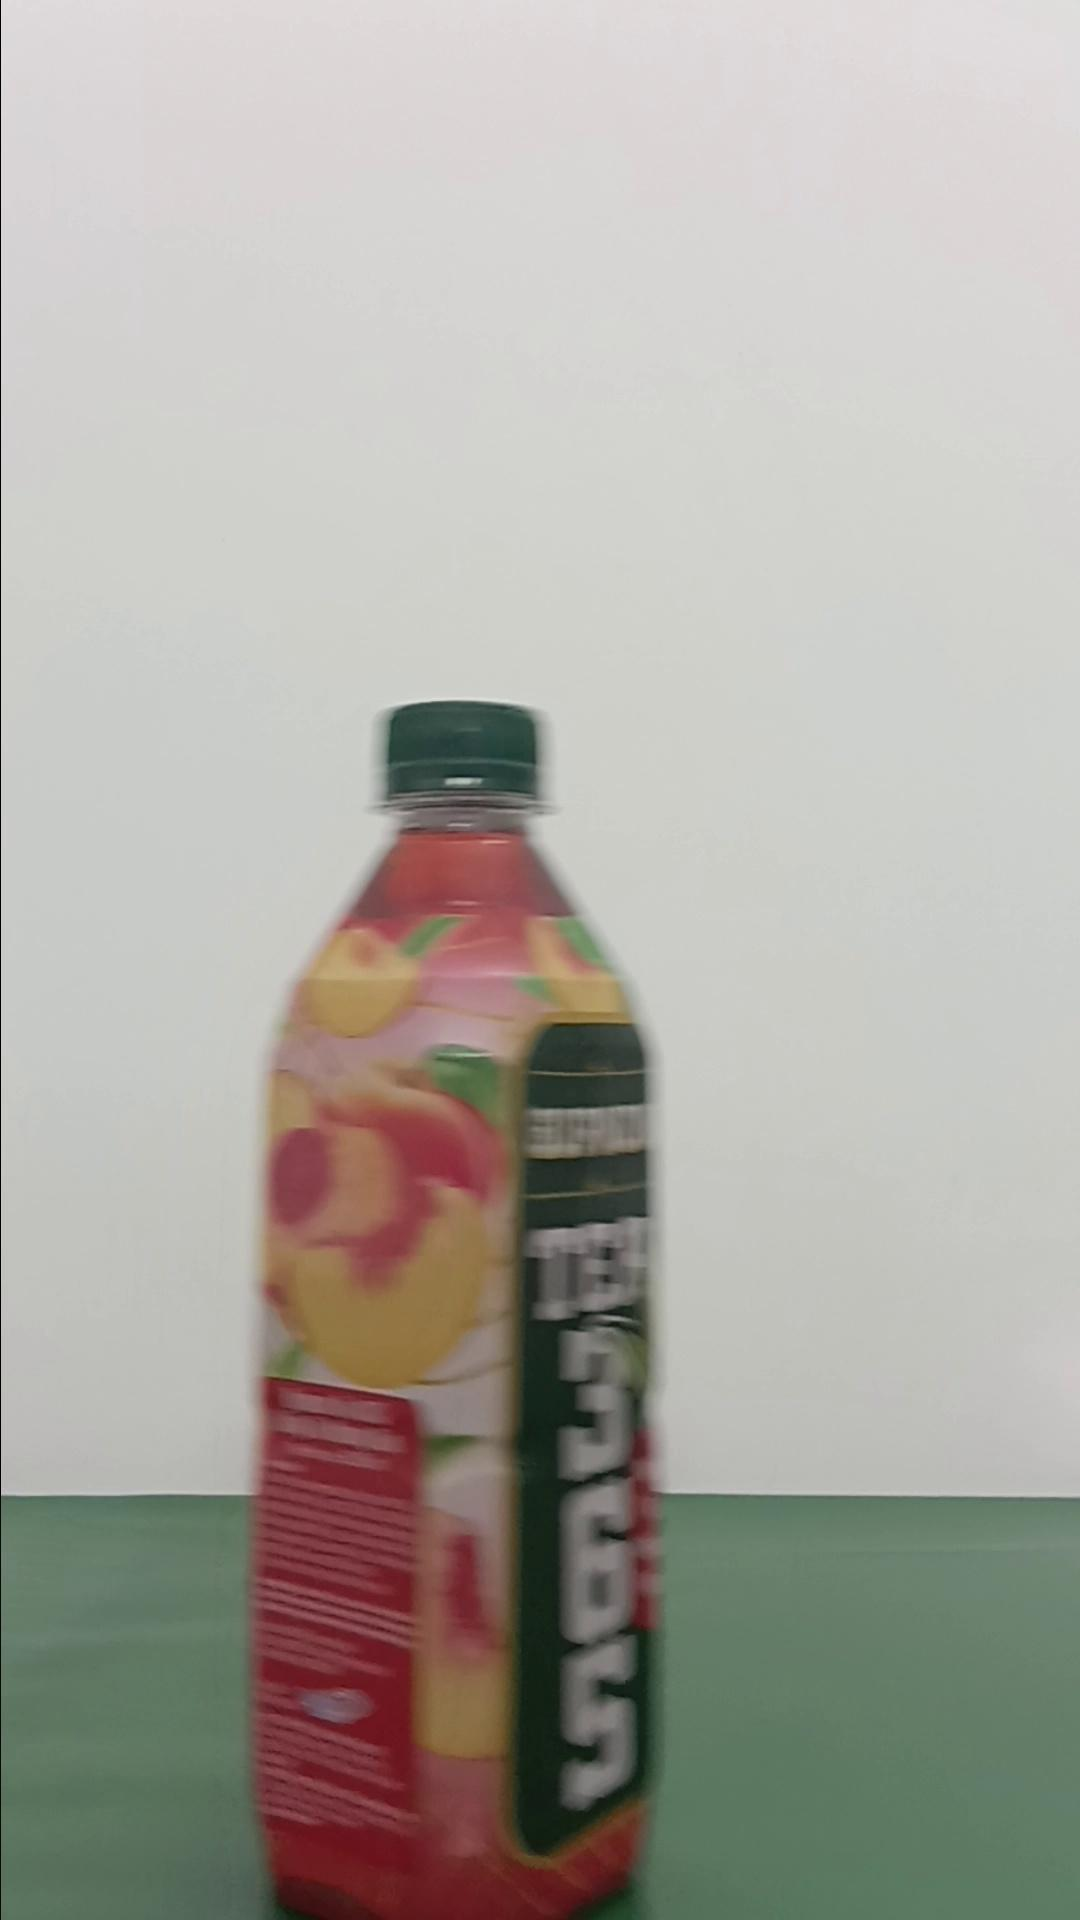khong loi: (245, 696, 669, 1915)
